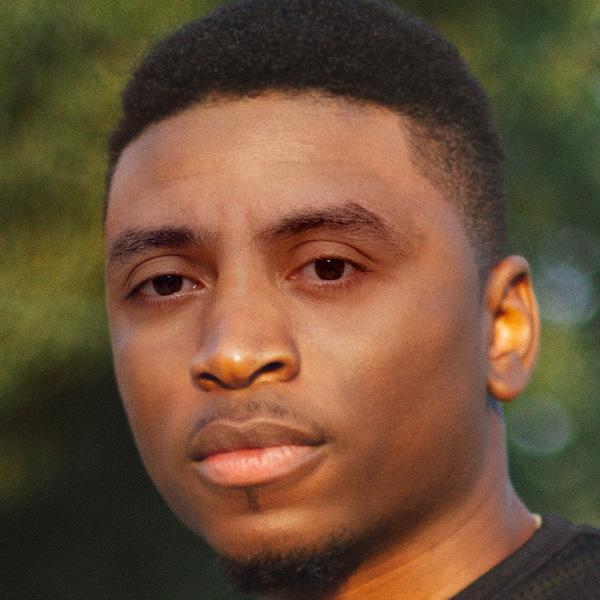Eyes: (273, 234, 389, 302), (118, 248, 214, 319)
